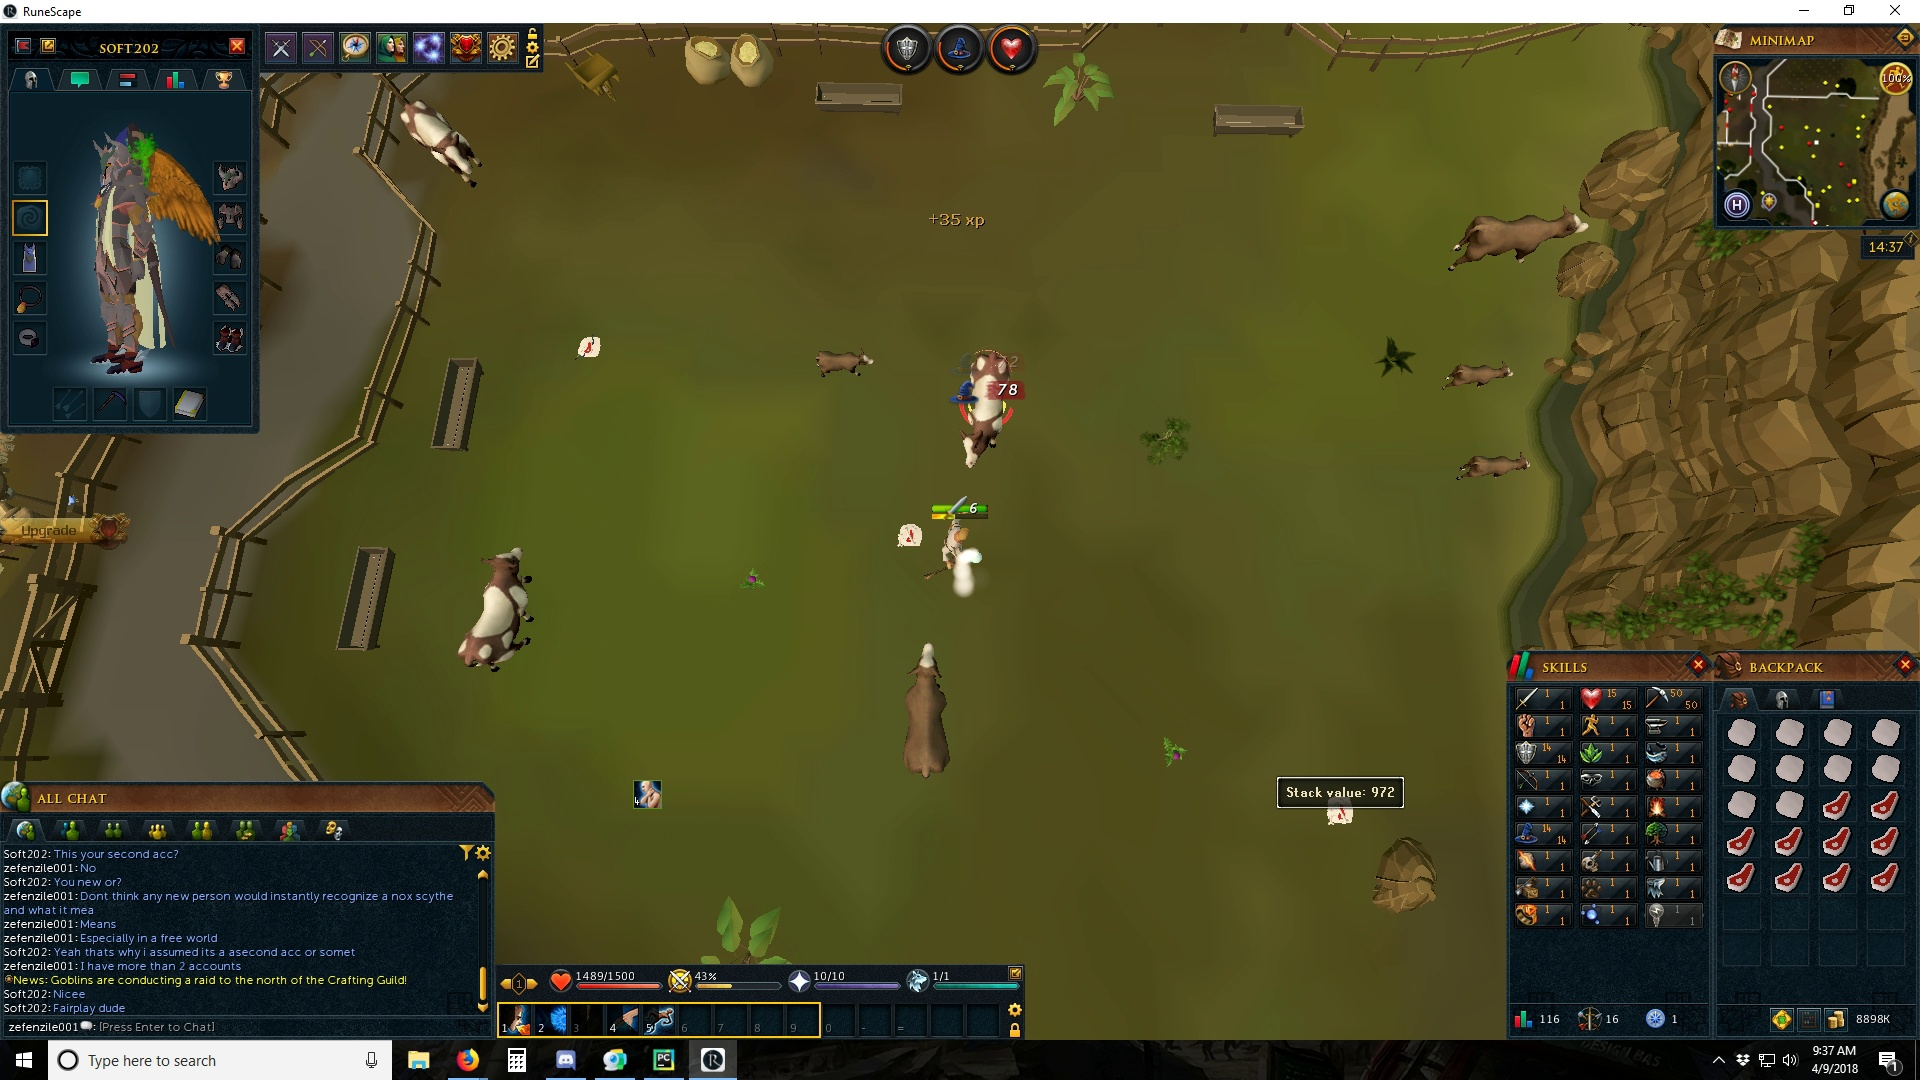calf: (1437, 361, 1520, 394), (1452, 454, 1536, 483), (810, 353, 877, 382)
cow: (1440, 204, 1592, 276), (458, 549, 535, 675), (398, 98, 485, 190), (901, 642, 953, 781)
cow_drop: (891, 520, 924, 553), (1323, 802, 1356, 829), (574, 332, 603, 361)
